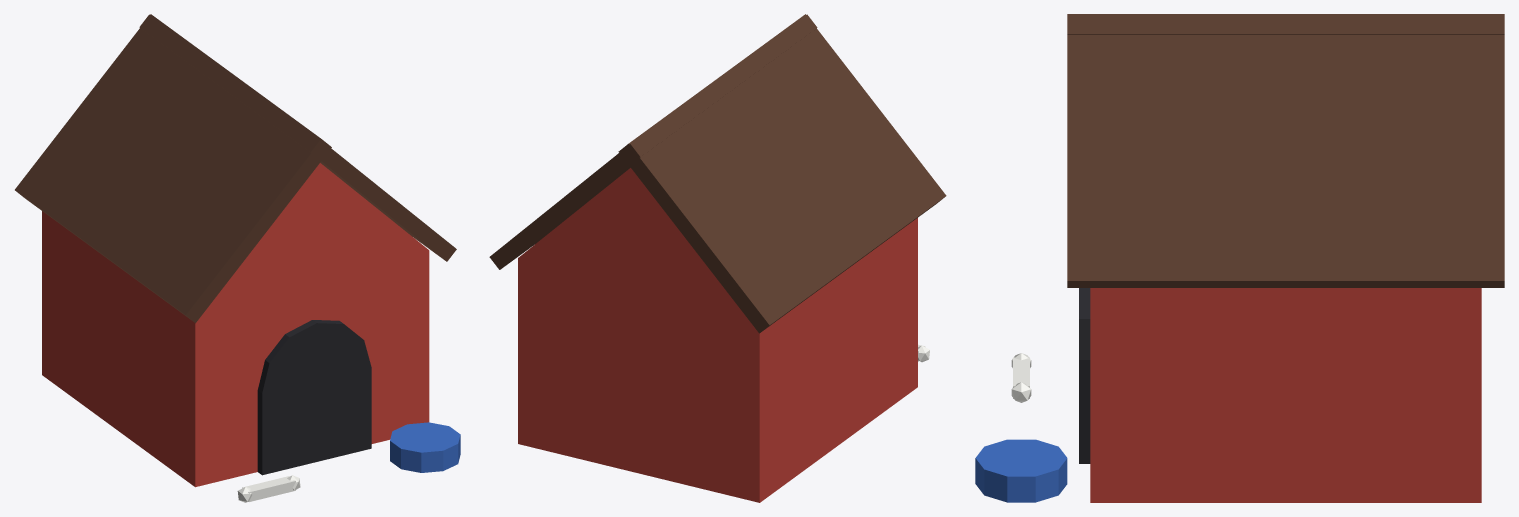
The model's file is Doghouse.fbx.
The picture shows the model from 3 angles, left to right: view 1: azimuth 30°, elevation 25°; view 2: azimuth 150°, elevation 25°; view 3: azimuth 270°, elevation 25°; orthographic projection. The views are drawn at different scales.
Visible parts, largest first — view 1: Walls, Roof, Door, Bowl, Bone; view 2: Walls, Roof; view 3: Roof, Walls, Bowl, Door, Bone.
Boxes of the visible parts, x1,y1,x2,y2 form: Walls: (42, 163, 429, 487); Roof: (15, 14, 456, 323); Door: (257, 320, 371, 475); Bowl: (390, 422, 460, 472); Bone: (237, 475, 300, 502); Walls: (518, 168, 917, 502); Roof: (489, 14, 946, 333); Roof: (1067, 14, 1504, 287); Walls: (1090, 288, 1481, 502); Bowl: (975, 439, 1067, 502); Door: (1079, 288, 1090, 463); Bone: (1011, 353, 1031, 402).
Bounding box in the file's own units: 3.47 × 4.01 × 4.6.
